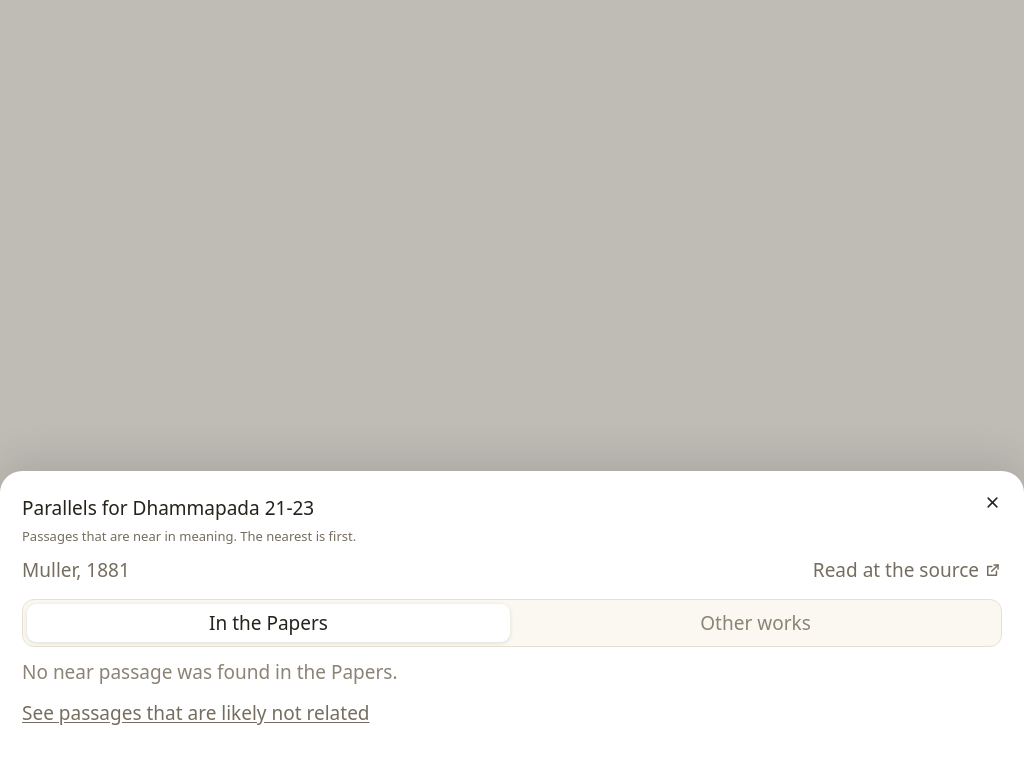
it: the parallels of a passage of the Library › offers the Papers below the floor when none is at the floor
This screenshot has width=1024, height=768.
Click the button "See passages that are likely not related" at [196, 713], box [22,698,370,728]
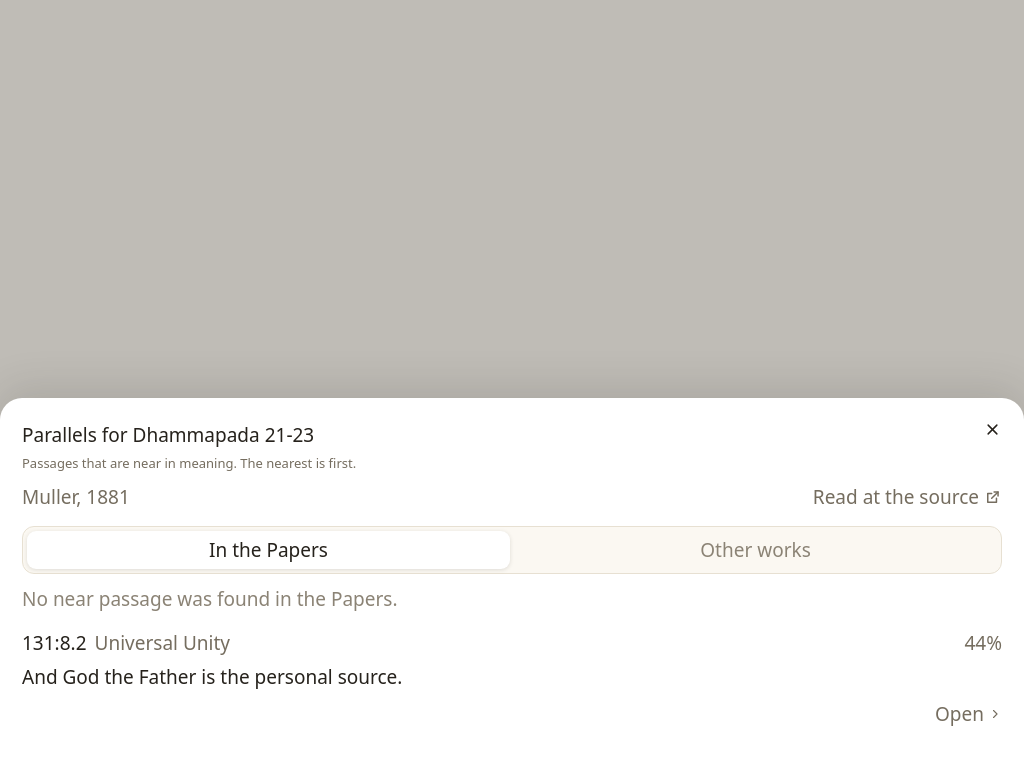
Check: the text "131:8.2" is shown, box [22,628,86,658]
